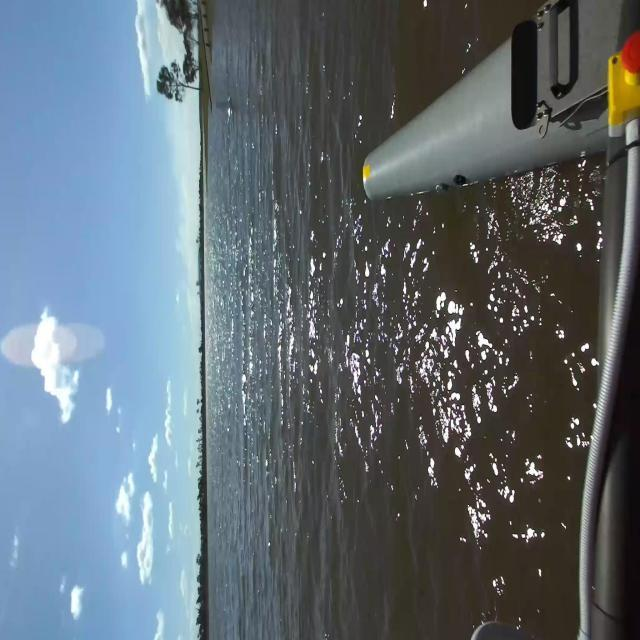White_Buoy: (212, 93, 243, 127)
